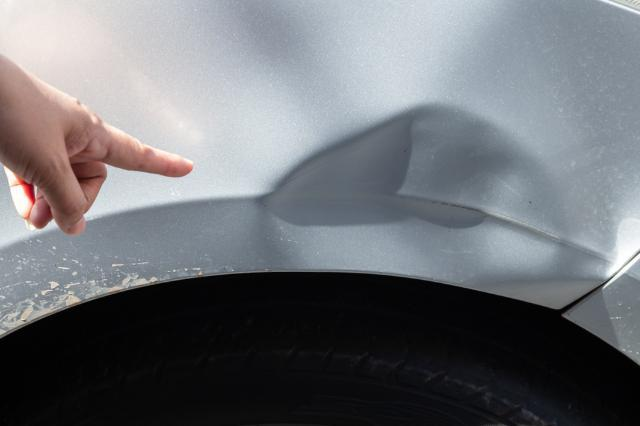Fender: (203, 69, 604, 303)
